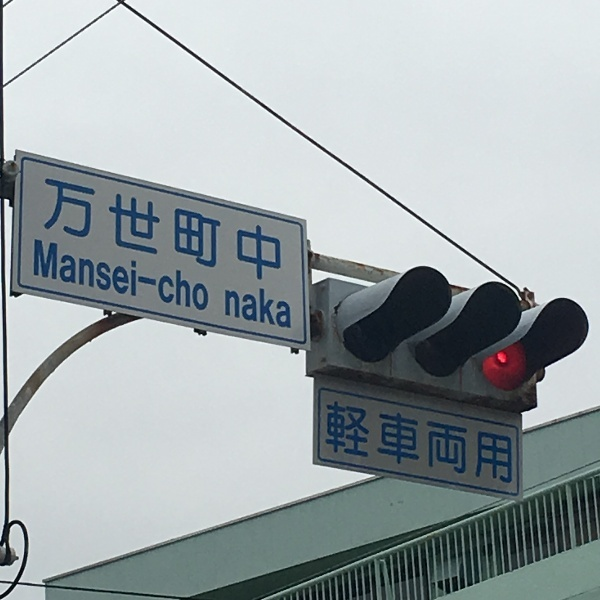text: (49, 175, 64, 286), (65, 175, 80, 286), (81, 175, 96, 286), (97, 175, 112, 286), (113, 175, 128, 286), (129, 175, 144, 286), (145, 175, 160, 286), (161, 175, 176, 286), (177, 175, 192, 286), (193, 175, 208, 286), (209, 175, 224, 286), (225, 175, 240, 286), (241, 175, 256, 286), (257, 175, 272, 286), (497, 398, 513, 487), (337, 398, 352, 487), (353, 398, 368, 487), (369, 398, 384, 487), (385, 398, 400, 487), (401, 398, 416, 487), (417, 398, 432, 487), (433, 398, 448, 487), (449, 398, 464, 487), (465, 398, 480, 487), (481, 398, 496, 487), (49, 237, 64, 314), (65, 237, 80, 314), (81, 237, 96, 314), (97, 237, 112, 314), (113, 237, 128, 314), (129, 237, 144, 314), (145, 237, 160, 314), (161, 237, 176, 314), (177, 237, 192, 314), (193, 237, 208, 314), (34, 237, 48, 314), (273, 175, 282, 286), (327, 398, 336, 487), (225, 279, 240, 331), (241, 279, 256, 331), (257, 279, 272, 331), (273, 279, 288, 331), (45, 175, 48, 286), (289, 279, 293, 331), (209, 237, 210, 314)
